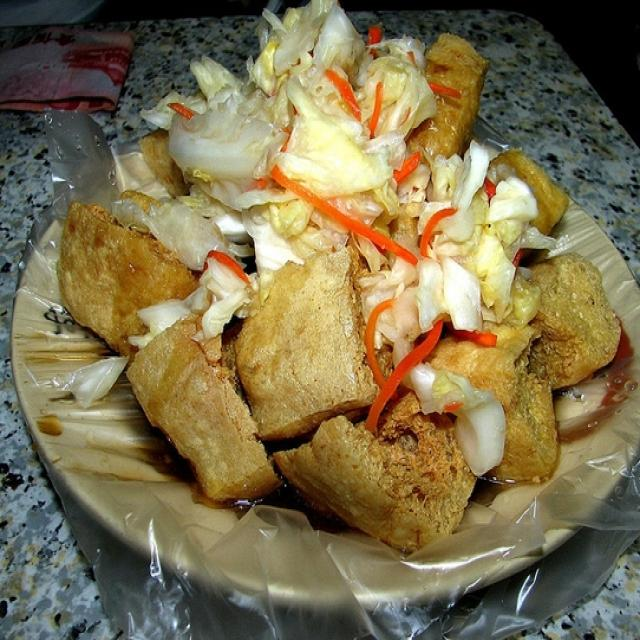豆腐料理: (9, 7, 633, 615)
